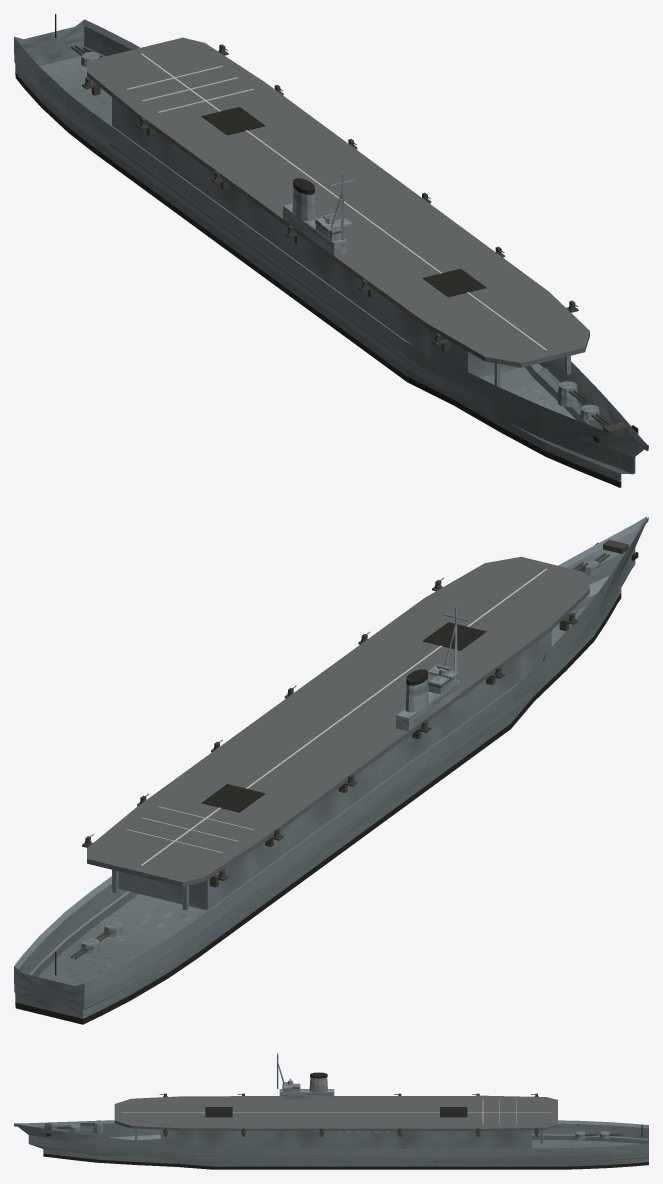
Rendered from carrier.glb.
The picture shows the model from 3 angles, top to bottom: view 1: azimuth 30°, elevation 25°; view 2: azimuth 150°, elevation 25°; view 3: azimuth 270°, elevation 25°; orthographic projection. The views are drawn at different scales.
Parts seen in each view (by area): view 1: pont_envol, coque, hangar, ligne_flottaison, ascenseur, defense_antiaerienne, hublots_tribord, ilot_base, ligne_axiale; view 2: pont_envol, coque, hangar, ligne_flottaison, ascenseur, defense_antiaerienne, hublots_tribord, ilot_base, ligne_axiale; view 3: coque, pont_envol, hangar, ligne_flottaison, hublots_babord, ascenseur, ilot_base, ligne_axiale, defense_antiaerienne, cheminee_corps.
Part boxes in pixels (left/top/right/bottom): pont_envol: left=87, top=37, right=589, bottom=367; coque: left=14, top=19, right=648, bottom=481; hangar: left=112, top=97, right=519, bottom=377; ligne_flottaison: left=15, top=72, right=621, bottom=487; ascenseur: left=201, top=107, right=486, bottom=297; defense_antiaerienne: left=82, top=44, right=578, bottom=351; hublots_tribord: left=110, top=142, right=422, bottom=374; ilot_base: left=283, top=203, right=347, bottom=256; ligne_axiale: left=141, top=53, right=547, bottom=350; pont_envol: left=87, top=556, right=589, bottom=886; coque: left=14, top=516, right=648, bottom=1018; hangar: left=112, top=631, right=551, bottom=910; ligne_flottaison: left=15, top=593, right=621, bottom=1024; ascenseur: left=201, top=622, right=486, bottom=812; defense_antiaerienne: left=82, top=577, right=578, bottom=887; hublots_tribord: left=219, top=691, right=532, bottom=923; ilot_base: left=396, top=680, right=460, bottom=731; ligne_axiale: left=141, top=568, right=547, bottom=865; coque: left=14, top=1120, right=648, bottom=1166; pont_envol: left=114, top=1095, right=557, bottom=1131; hangar: left=160, top=1129, right=531, bottom=1148; ligne_flottaison: left=43, top=1153, right=648, bottom=1169; hublots_babord: left=194, top=1157, right=526, bottom=1158; ascenseur: left=205, top=1107, right=467, bottom=1117; ilot_base: left=279, top=1089, right=334, bottom=1099; ligne_axiale: left=121, top=1112, right=550, bottom=1112; defense_antiaerienne: left=159, top=1093, right=538, bottom=1136; cheminee_corps: left=309, top=1077, right=327, bottom=1092.
Bounding box in the file's own units: 0.89 × 0.998 × 6.5.
9 materials, 3 textured.
